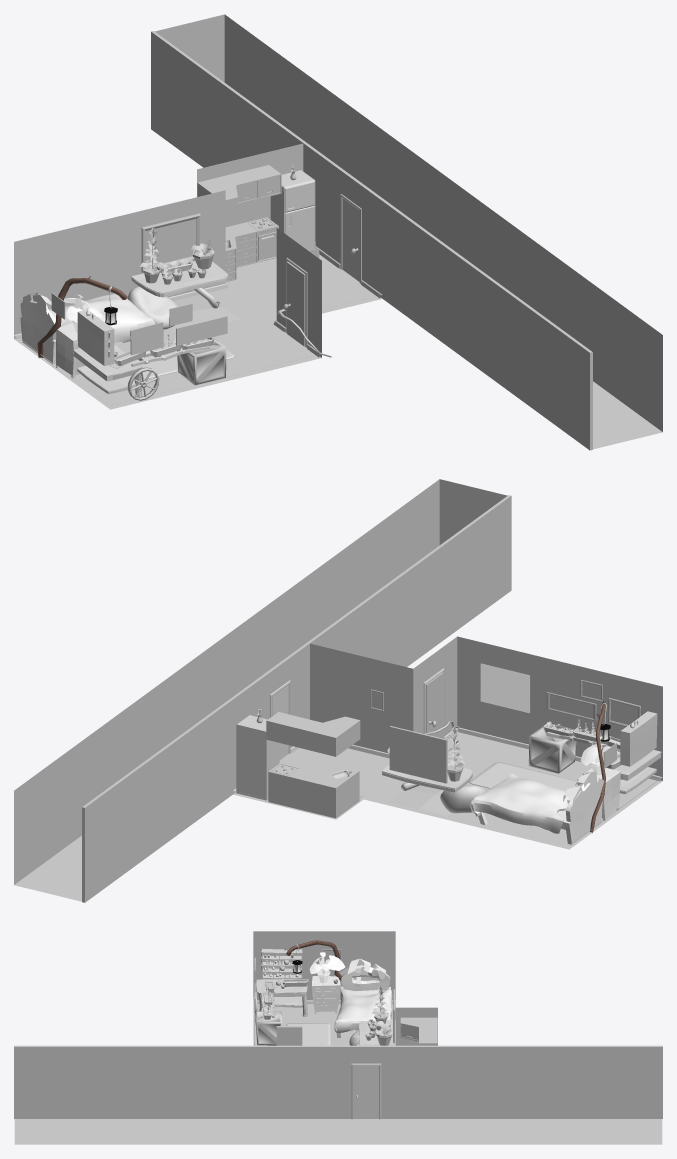
3 views of the same model, one above another, from view 1: azimuth 30°, elevation 25°; view 2: azimuth 150°, elevation 25°; view 3: azimuth 270°, elevation 25° (orthographic). The views are drawn at different scales.
Parts seen in each view (by area): view 1: structure, front_wall, BED, fridge, cabinet_top, sink, quadrão, rodape, Table.001, Table, crate, Estante2 (+9 smaller); view 2: structure, front_wall, BED, sink, cabinet_top, fridge, quadrão, Plane.001, crate, rodape, Estante2, Plane (+8 smaller); view 3: front_wall, structure, BED, porta, Table, Estante2, cabinet_top, Nightstand, crate, Plane, rodape, porta_banheiro (+3 smaller).
Part boxes in pixels (bbox=[...]): structure: bbox=[14, 14, 662, 449]; front_wall: bbox=[151, 31, 592, 450]; BED: bbox=[20, 292, 154, 364]; fridge: bbox=[270, 170, 315, 250]; cabinet_top: bbox=[197, 165, 281, 219]; sink: bbox=[225, 217, 278, 281]; quadrão: bbox=[141, 213, 200, 272]; rodape: bbox=[14, 194, 382, 405]; Table.001: bbox=[131, 261, 228, 308]; Table: bbox=[73, 344, 142, 397]; crate: bbox=[177, 338, 226, 385]; Estante2: bbox=[77, 309, 114, 365]; structure: bbox=[14, 479, 662, 901]; front_wall: bbox=[82, 495, 511, 902]; BED: bbox=[470, 771, 603, 844]; sink: bbox=[268, 763, 359, 818]; cabinet_top: bbox=[266, 712, 360, 756]; fridge: bbox=[236, 715, 279, 800]; quadrão: bbox=[389, 726, 447, 783]; Plane.001: bbox=[479, 659, 531, 715]; crate: bbox=[528, 724, 576, 773]; rodape: bbox=[233, 668, 662, 845]; Estante2: bbox=[620, 711, 657, 766]; Plane: bbox=[469, 762, 577, 790]; front_wall: bbox=[14, 1045, 662, 1118]; structure: bbox=[14, 931, 662, 1144]; BED: bbox=[334, 958, 392, 1037]; porta: bbox=[353, 1065, 379, 1118]; Table: bbox=[256, 979, 308, 1016]; Estante2: bbox=[262, 949, 302, 978]; cabinet_top: bbox=[400, 1017, 437, 1045]; Nightstand: bbox=[312, 976, 340, 1013]; crate: bbox=[255, 1011, 282, 1045]; Plane: bbox=[286, 1023, 330, 1045]; rodape: bbox=[253, 1000, 395, 1119]; porta_banheiro: bbox=[276, 1026, 302, 1045].
Size of the model in its own units: 13.7 by 3.3 by 26.51.
17 materials, 2 textured.
